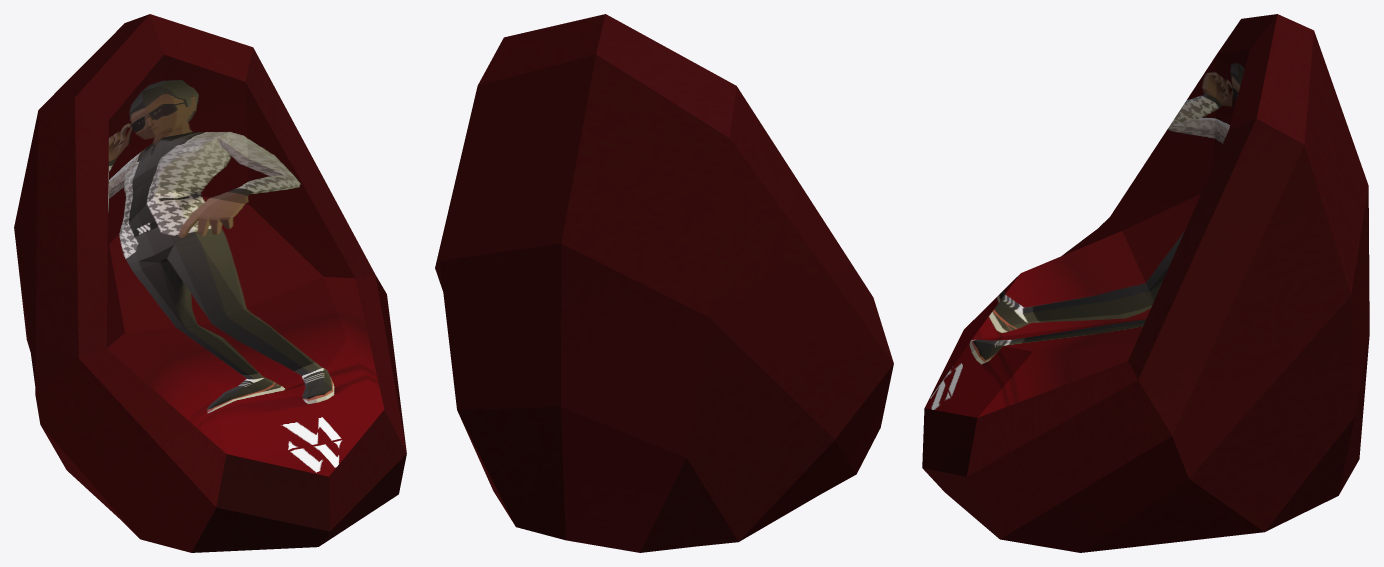
Rendered from MrAvocado.fbx.
The picture shows the model from 3 angles, left to right: view 1: azimuth 30°, elevation 25°; view 2: azimuth 150°, elevation 25°; view 3: azimuth 270°, elevation 25°; orthographic projection. The views are drawn at different scales.
Visible parts, largest first — view 1: MrAvocado; view 2: MrAvocado; view 3: MrAvocado.
Part boxes in pixels (x1=…): MrAvocado: x1=14, y1=14, x2=406, y2=552; MrAvocado: x1=435, y1=14, x2=893, y2=552; MrAvocado: x1=922, y1=14, x2=1369, y2=552.
Size of the model in its own units: 102 by 114 by 98.25.
